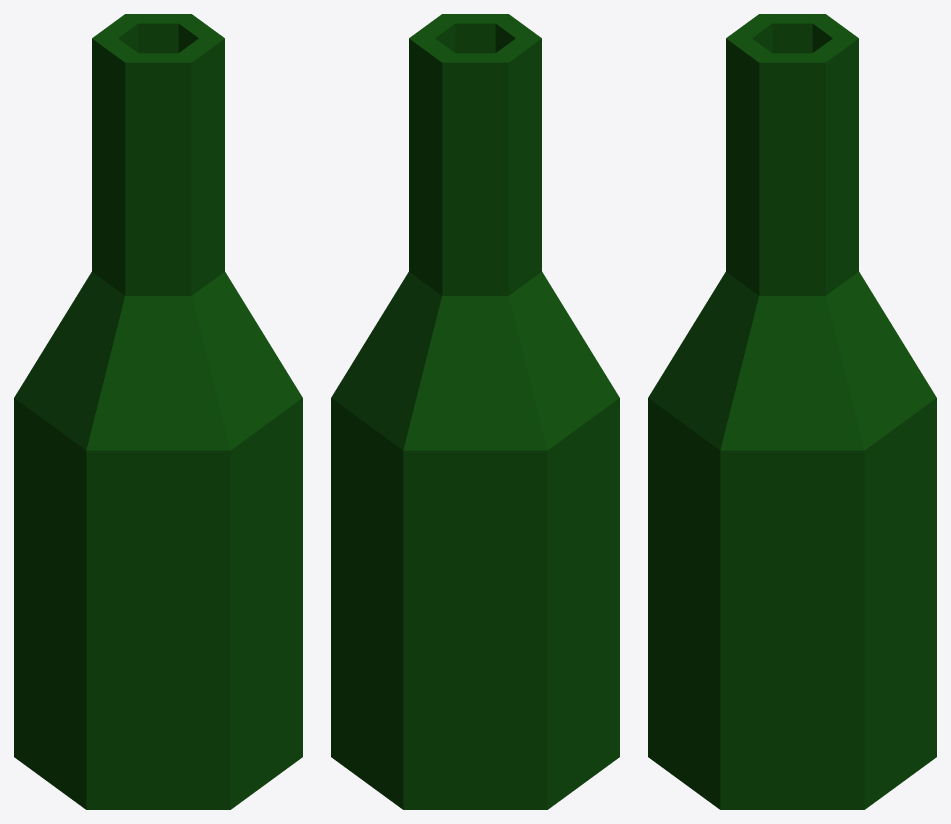
File: Bottle 1.fbx
The picture shows the model from 3 angles, left to right: view 1: azimuth 30°, elevation 25°; view 2: azimuth 150°, elevation 25°; view 3: azimuth 270°, elevation 25°; orthographic projection.
Parts seen in each view (by area): view 1: Bottle 1; view 2: Bottle 1; view 3: Bottle 1.
Boxes of the visible parts, x1=… form: Bottle 1: x1=14, y1=14, x2=302, y2=809; Bottle 1: x1=331, y1=14, x2=619, y2=809; Bottle 1: x1=648, y1=14, x2=936, y2=809.
Size of the model in its own units: 10.63 by 12.28 by 33.72.
